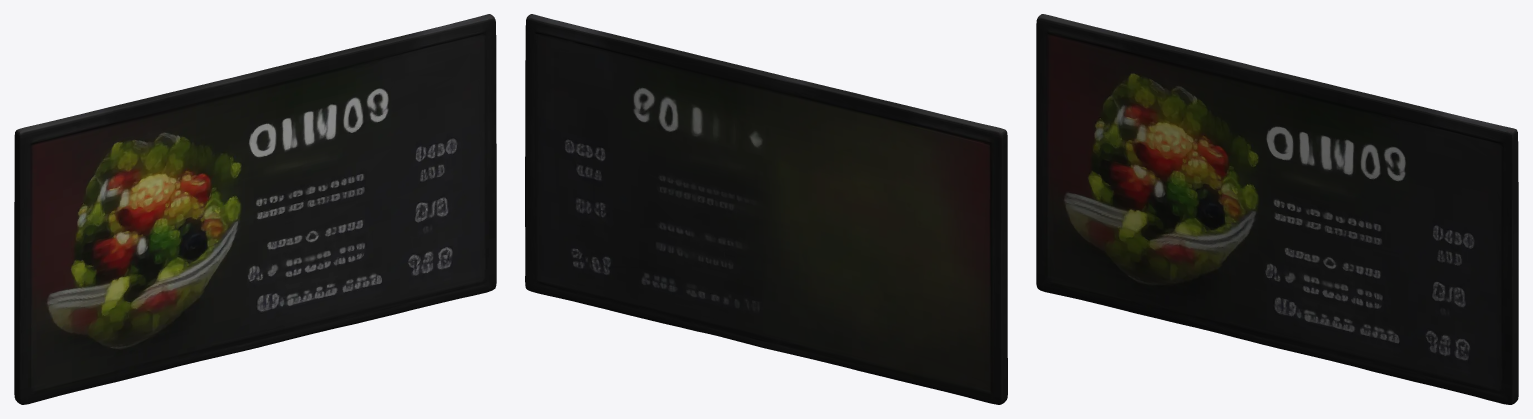
3 renders of one model, left to right at view 1: azimuth 30°, elevation 25°; view 2: azimuth 150°, elevation 25°; view 3: azimuth 330°, elevation 25°, orthographic.
Parts seen in each view (by area): view 1: geometry_0; view 2: geometry_0; view 3: geometry_0.
Part boxes in pixels (box(x1,y1,x2,y2)): geometry_0: box(14, 14, 496, 404); geometry_0: box(525, 14, 1007, 404); geometry_0: box(1036, 14, 1518, 404).
Size of the model in its own units: 1 by 0.5538 by 0.0242.
Materials: 1 (1 with a texture image).
